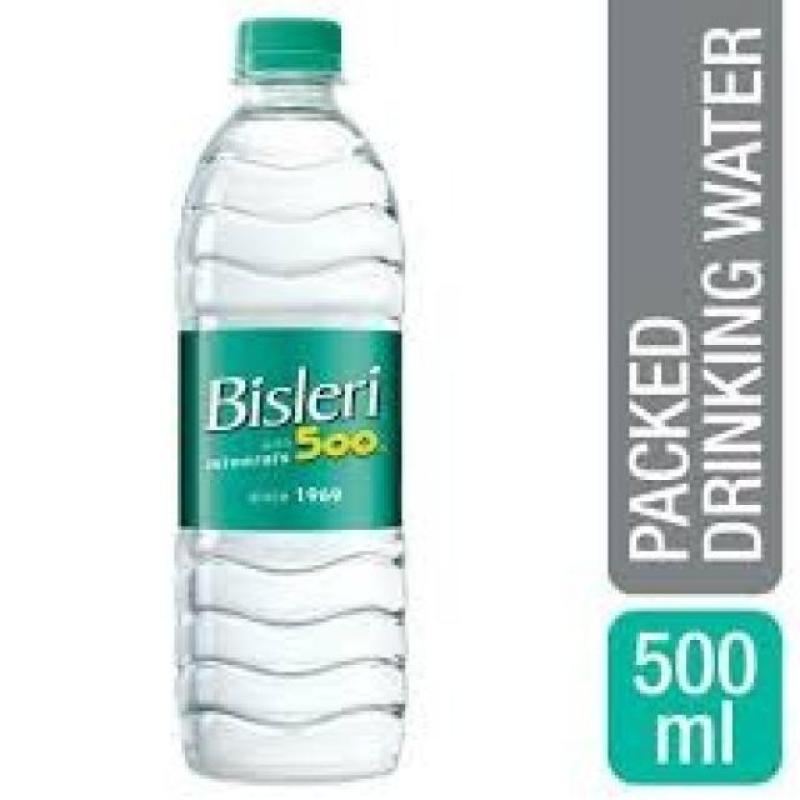botella: (167, 15, 413, 785)
